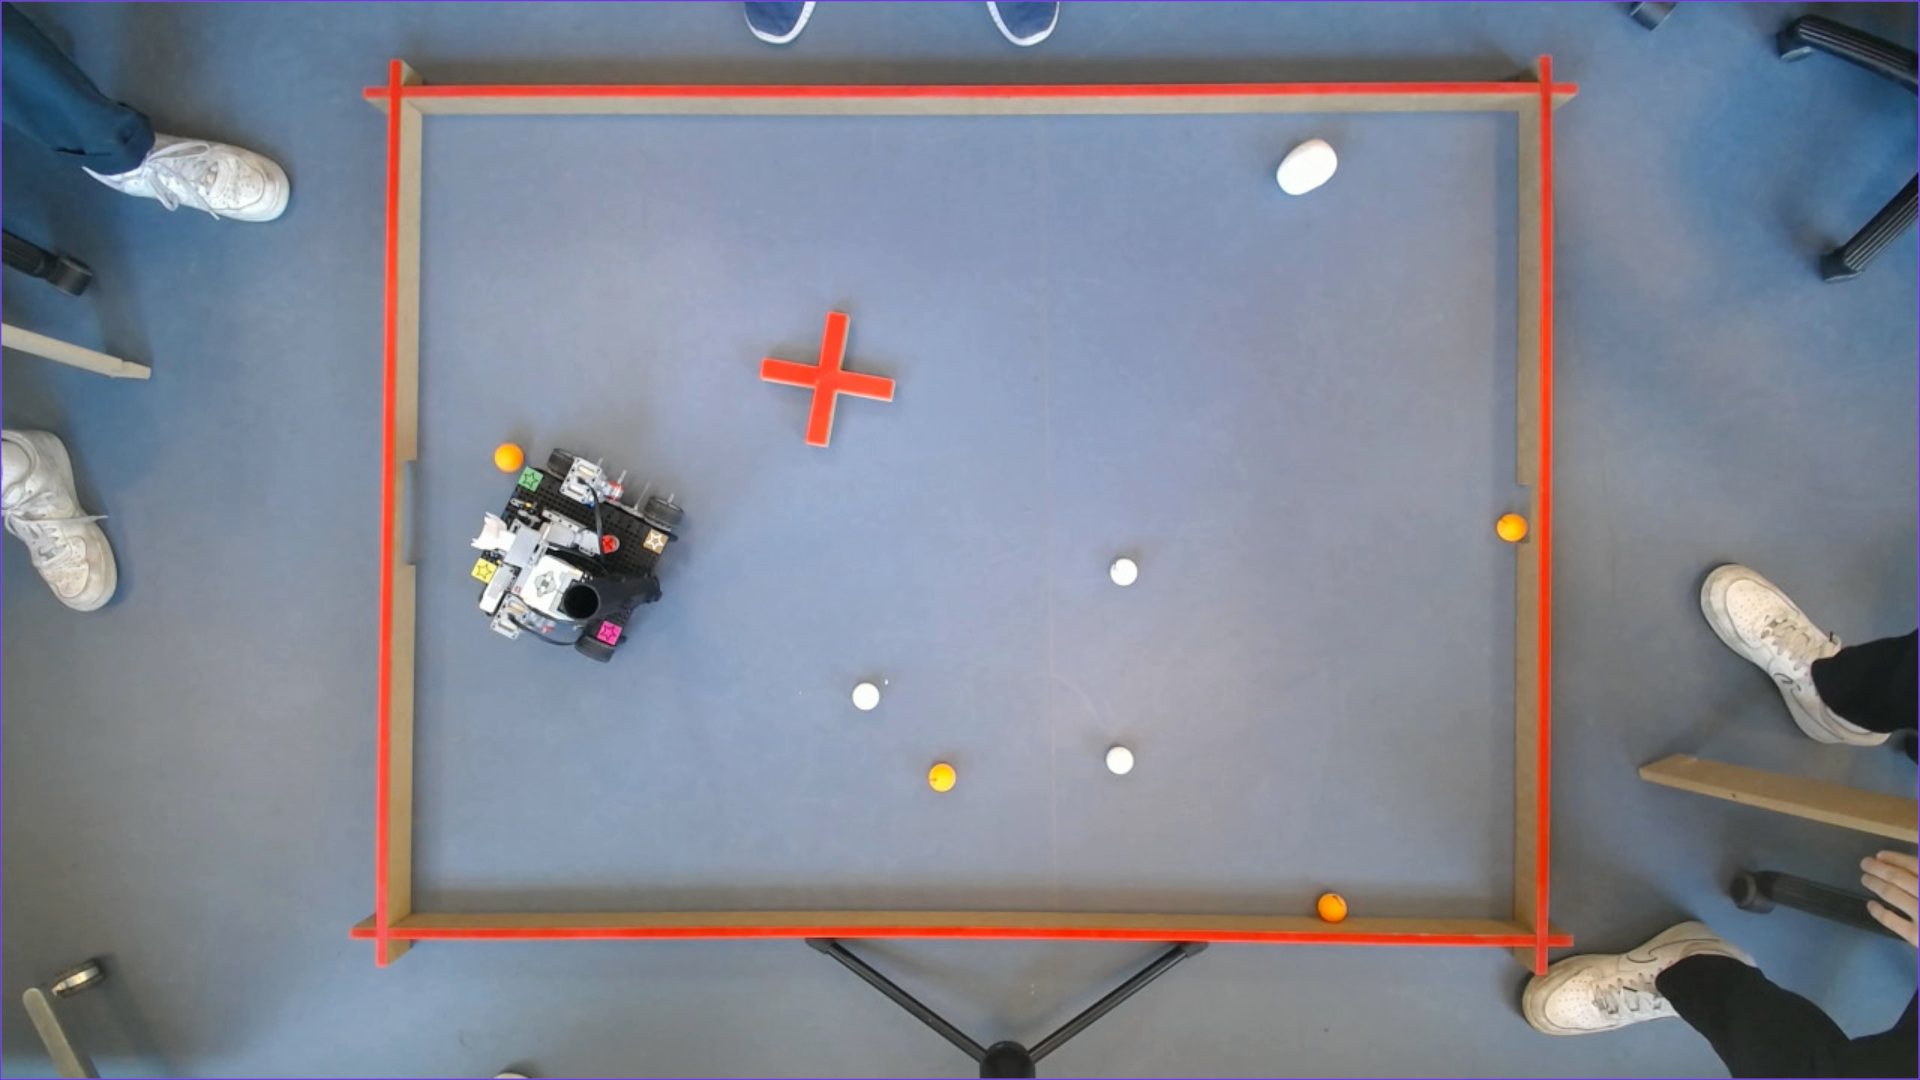ball_orange: (1317, 891, 1352, 920), (1497, 510, 1527, 542), (492, 442, 524, 469), (928, 762, 955, 790)
ball_white: (848, 680, 884, 711), (1108, 555, 1143, 585), (1102, 744, 1135, 771)
corner_brown: (644, 527, 669, 555)
corner_green: (522, 465, 539, 489)
corner_pink: (597, 621, 622, 645)
corner_yellow: (472, 559, 492, 579)
cross: (760, 306, 899, 451)
egg: (1274, 136, 1342, 196)
playfield: (372, 80, 1565, 960)
